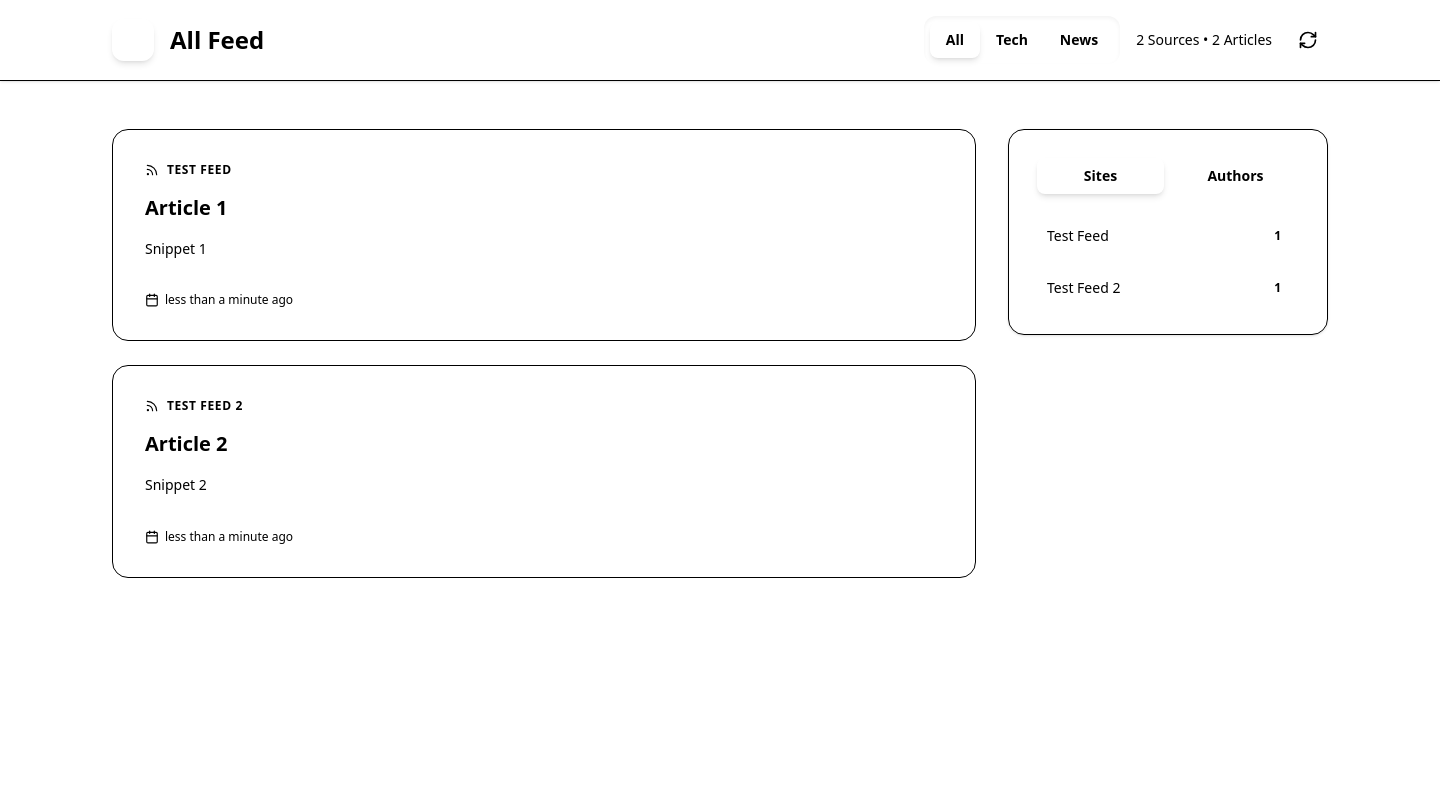
Test: FeedViewer › filters articles by theme
The image size is (1440, 810).
Note: There are multiple buttons (desktop and mobile), pick one
Click the button "Tech".
click(1012, 40)  # box [980, 22, 1044, 58]
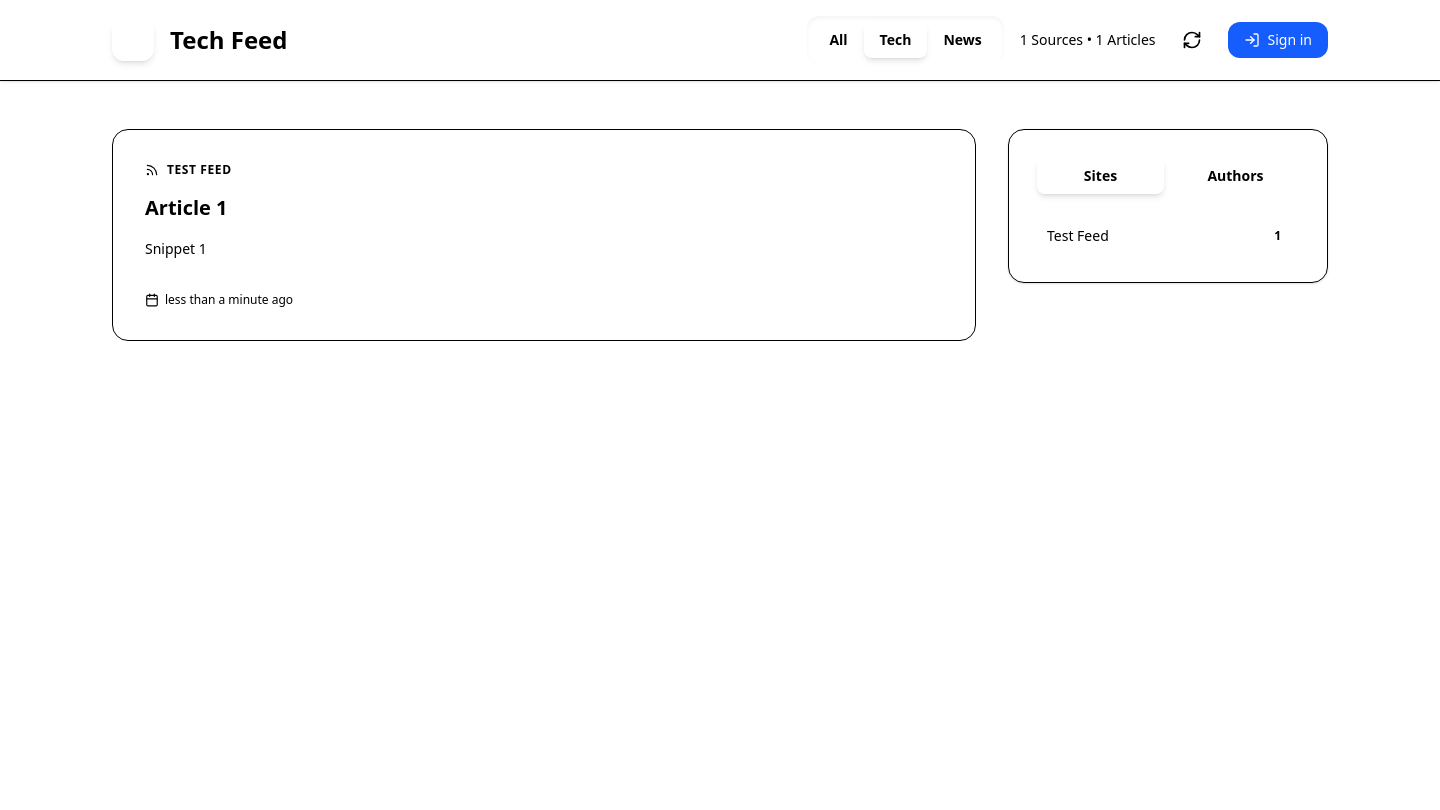
expect the heading "Article 1" is shown: met, box [145, 194, 228, 221]
expect the link "Article 2" is gone: met
